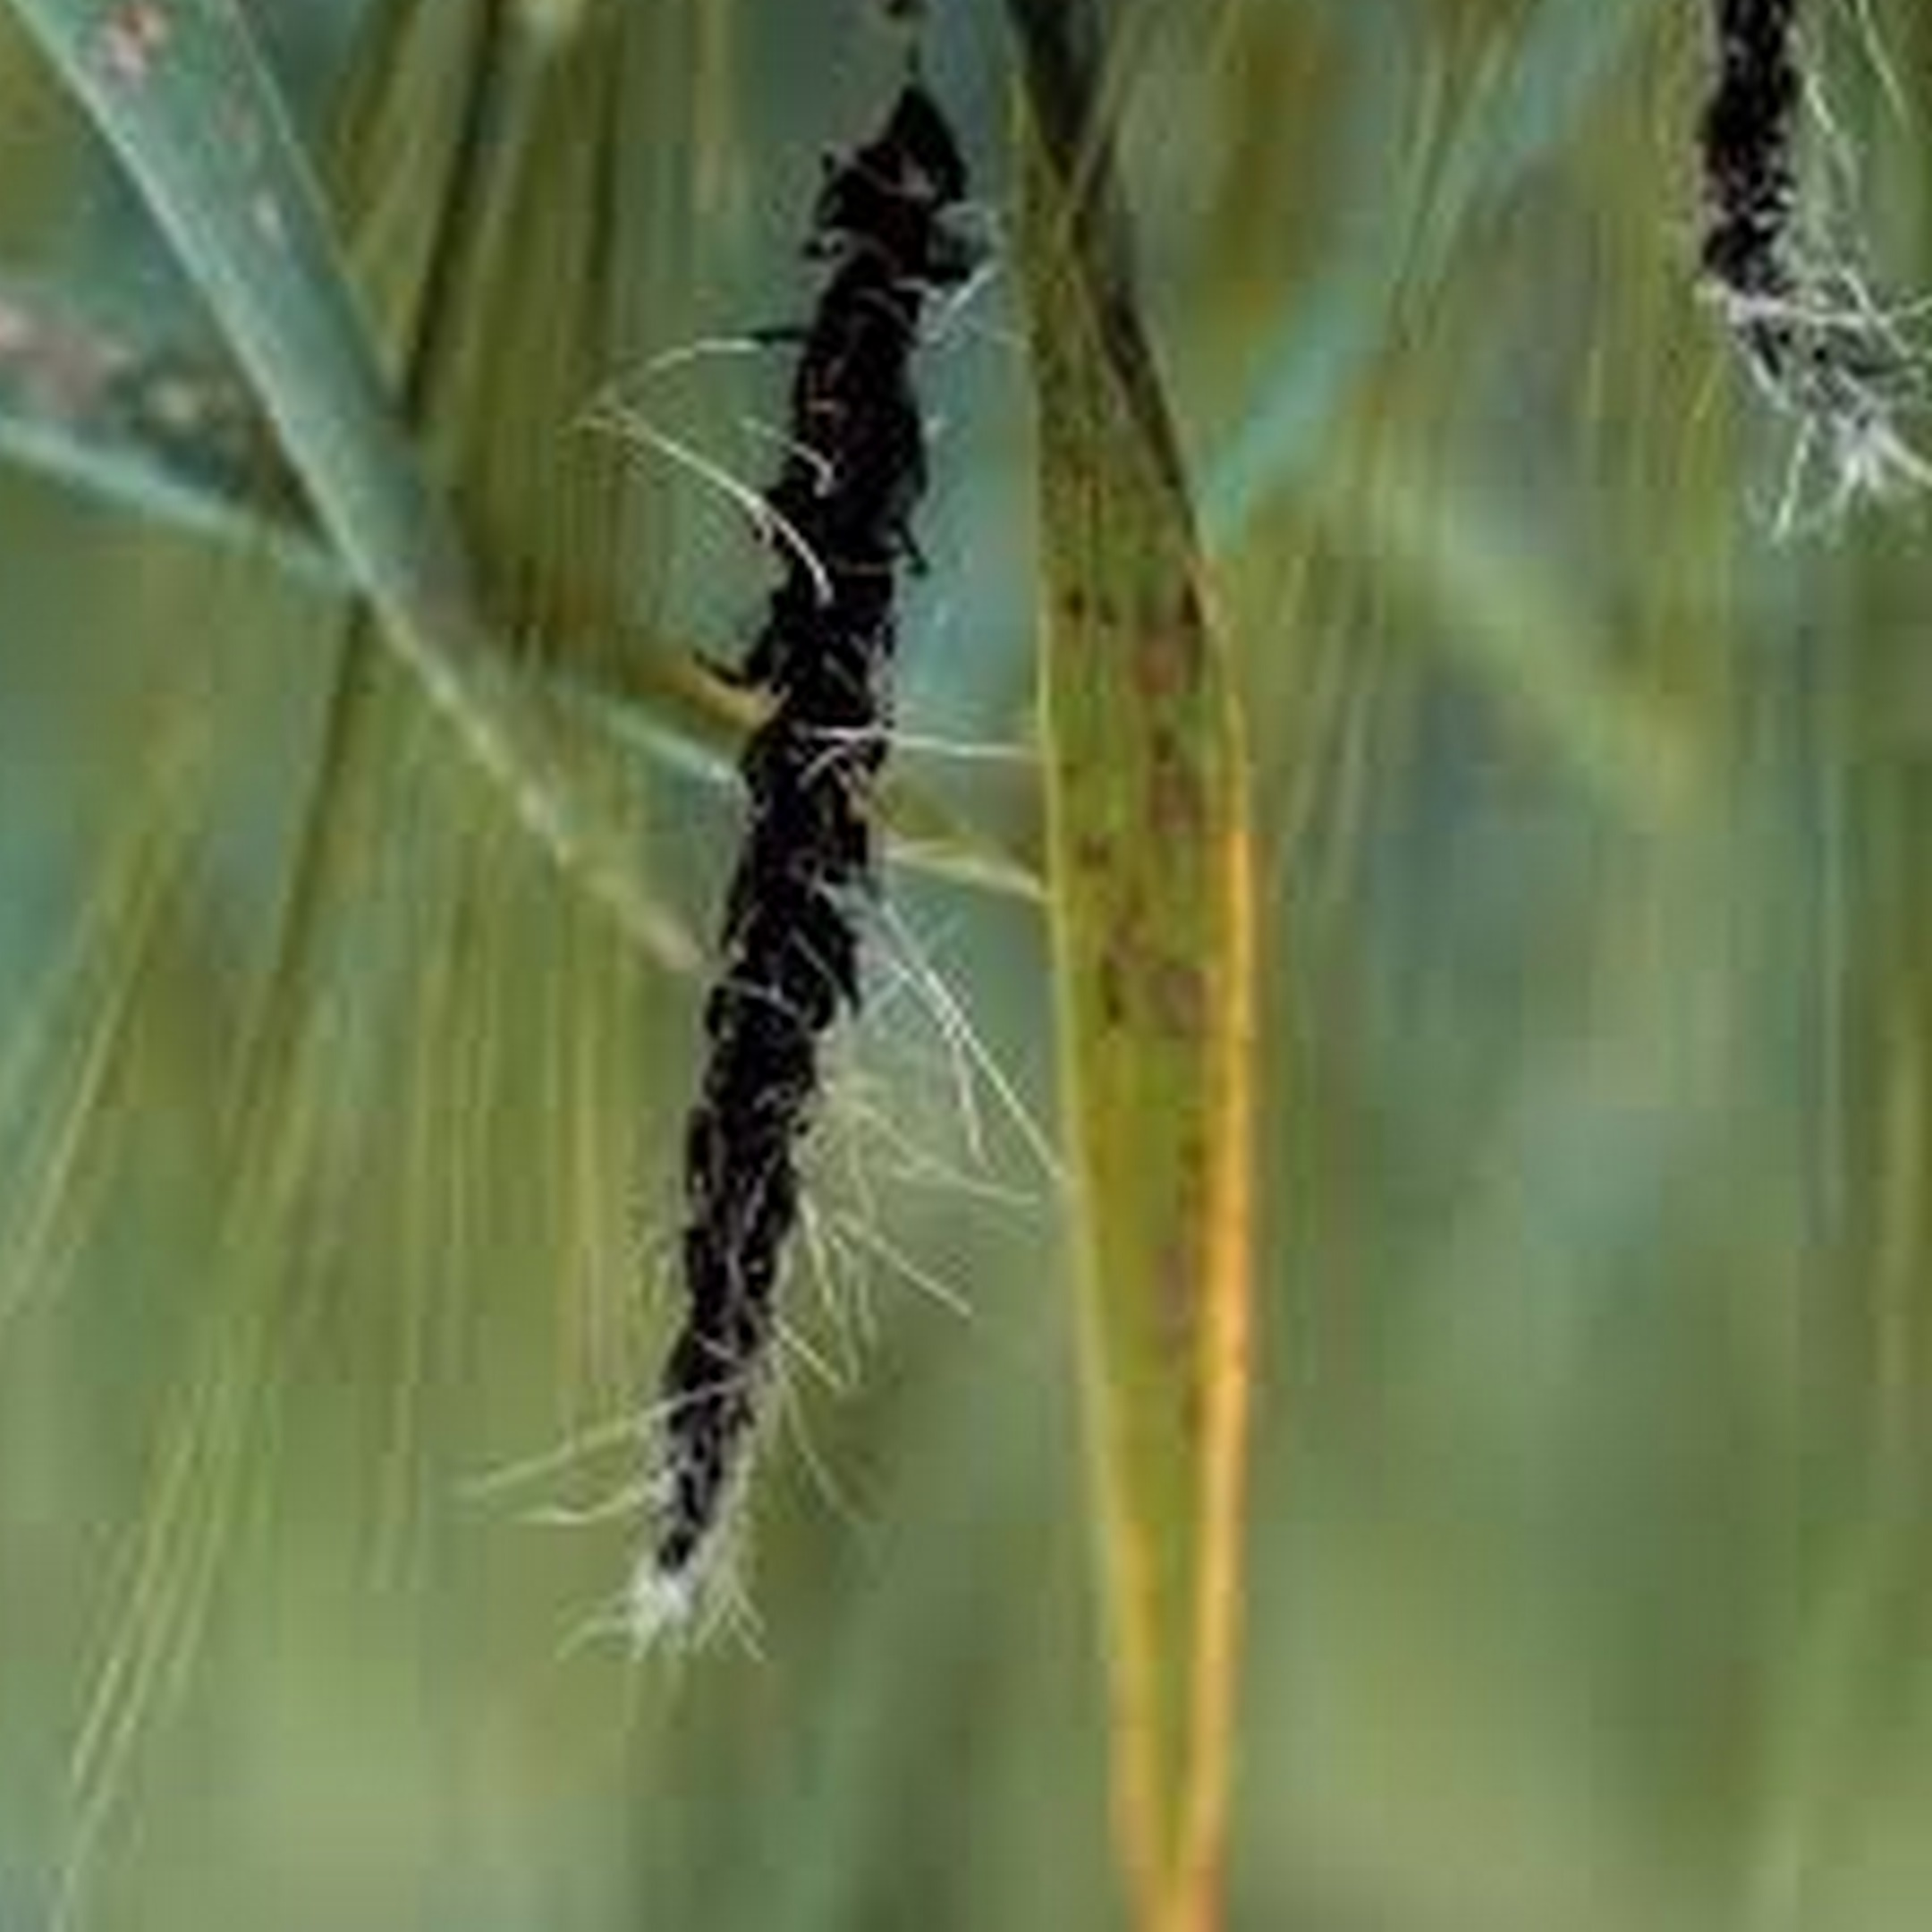Wheat Loose Smut: (596, 104, 1030, 1629)
